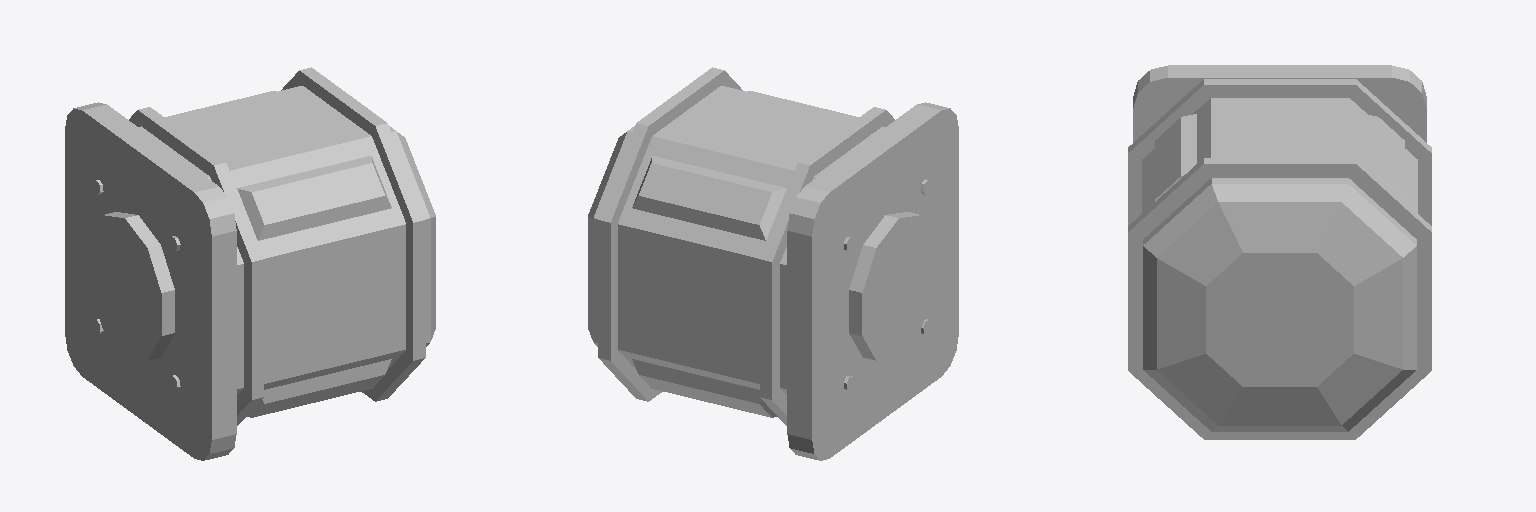
Rendered from stepper_motor.obj.
3 views of the same model, side by side, from view 1: azimuth 30°, elevation 25°; view 2: azimuth 150°, elevation 25°; view 3: azimuth 270°, elevation 25° (orthographic).
Parts seen in each view (by area): view 1: Cube_Cube.001; view 2: Cube_Cube.001; view 3: Cube_Cube.001.
Part boxes in pixels (bbox=[...]): Cube_Cube.001: bbox=[65, 67, 435, 460]; Cube_Cube.001: bbox=[588, 67, 958, 460]; Cube_Cube.001: bbox=[1128, 65, 1431, 439].
Bounding box in the file's own units: 1.98 × 2 × 2.